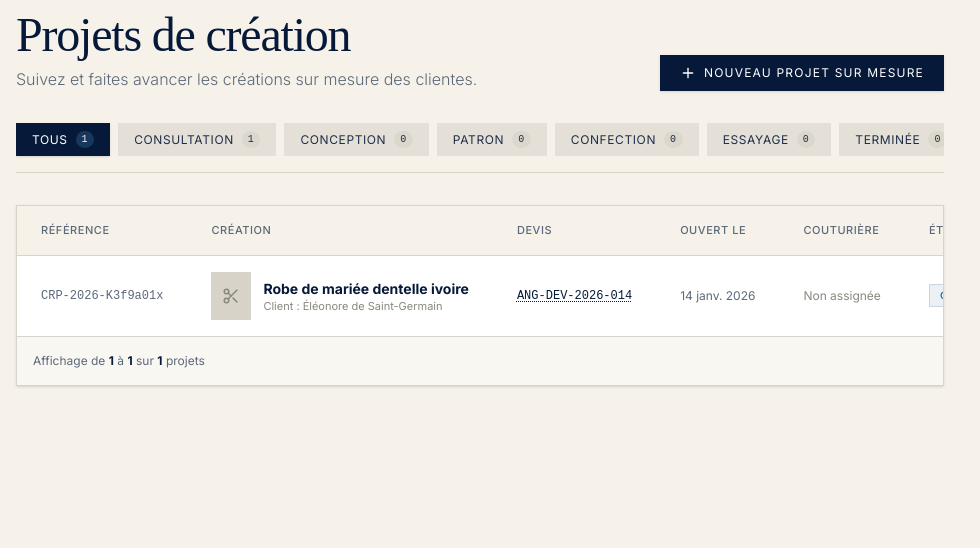
Test: AdminCreationProjectsPage › shows empty state when no projects match the active stage
Click Terminée filter
Click the tab "Terminée 0".
click(901, 140)  # box [839,123,963,156]
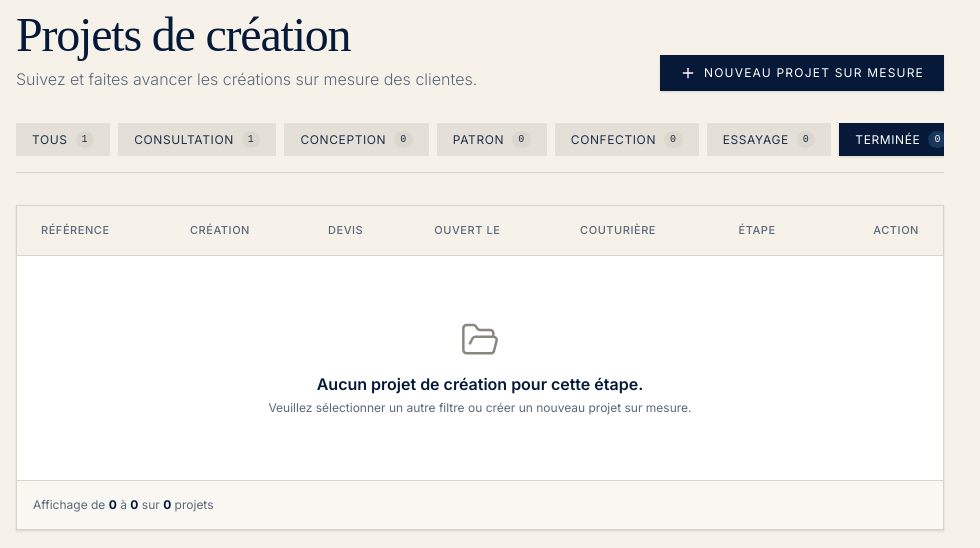
Expected: the text "Aucun projet de création pour cette étape." is shown, [317,374,643,394]
